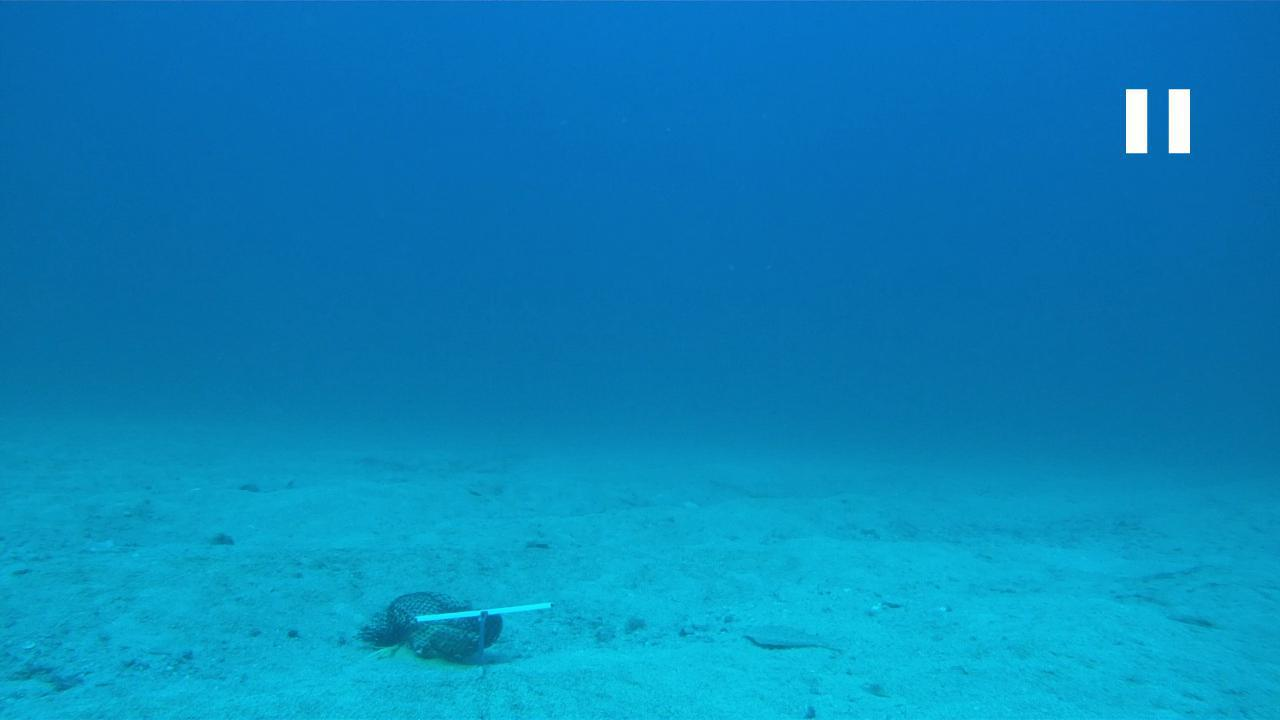bothus: (722, 609, 842, 660)
